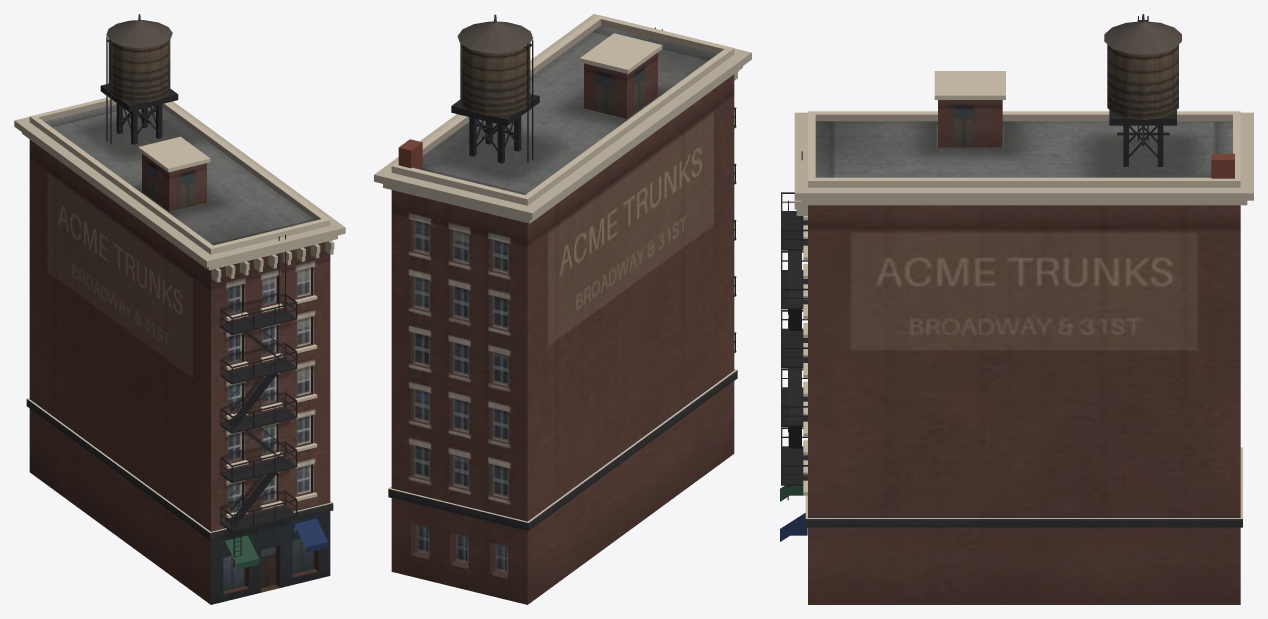
File: nyc_tenement_c.glb
3 views of the same model, side by side, from view 1: azimuth 30°, elevation 25°; view 2: azimuth 150°, elevation 25°; view 3: azimuth 270°, elevation 25° (orthographic). The views are drawn at different scales.
Parts seen in each view (by area): view 1: nyc_tenement_c; view 2: nyc_tenement_c; view 3: nyc_tenement_c.
Part boxes in pixels (bbox=[...]): nyc_tenement_c: bbox=[14, 14, 345, 604]; nyc_tenement_c: bbox=[374, 14, 751, 604]; nyc_tenement_c: bbox=[780, 14, 1253, 604].
Bounding box in the file's own units: 8.84 × 28.65 × 21.92.
1 material, 1 textured.
